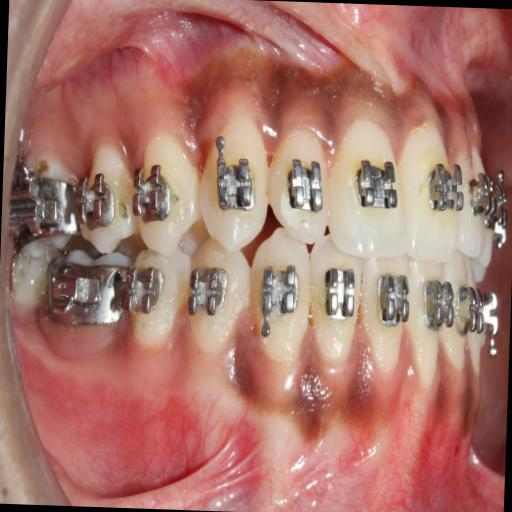correct_brace: (128, 132, 200, 252), (349, 148, 397, 224), (211, 157, 258, 213), (426, 152, 468, 212), (282, 159, 320, 214)
incorrect_brace: (263, 132, 327, 242), (133, 164, 171, 220)
